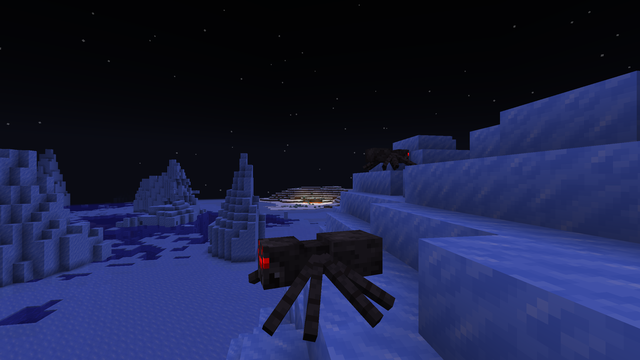araignees: (255, 222, 379, 332), (367, 144, 416, 170)
